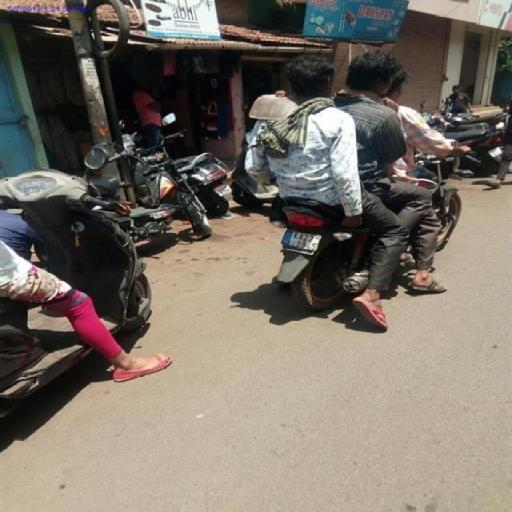tripple riding: (241, 49, 452, 219)
